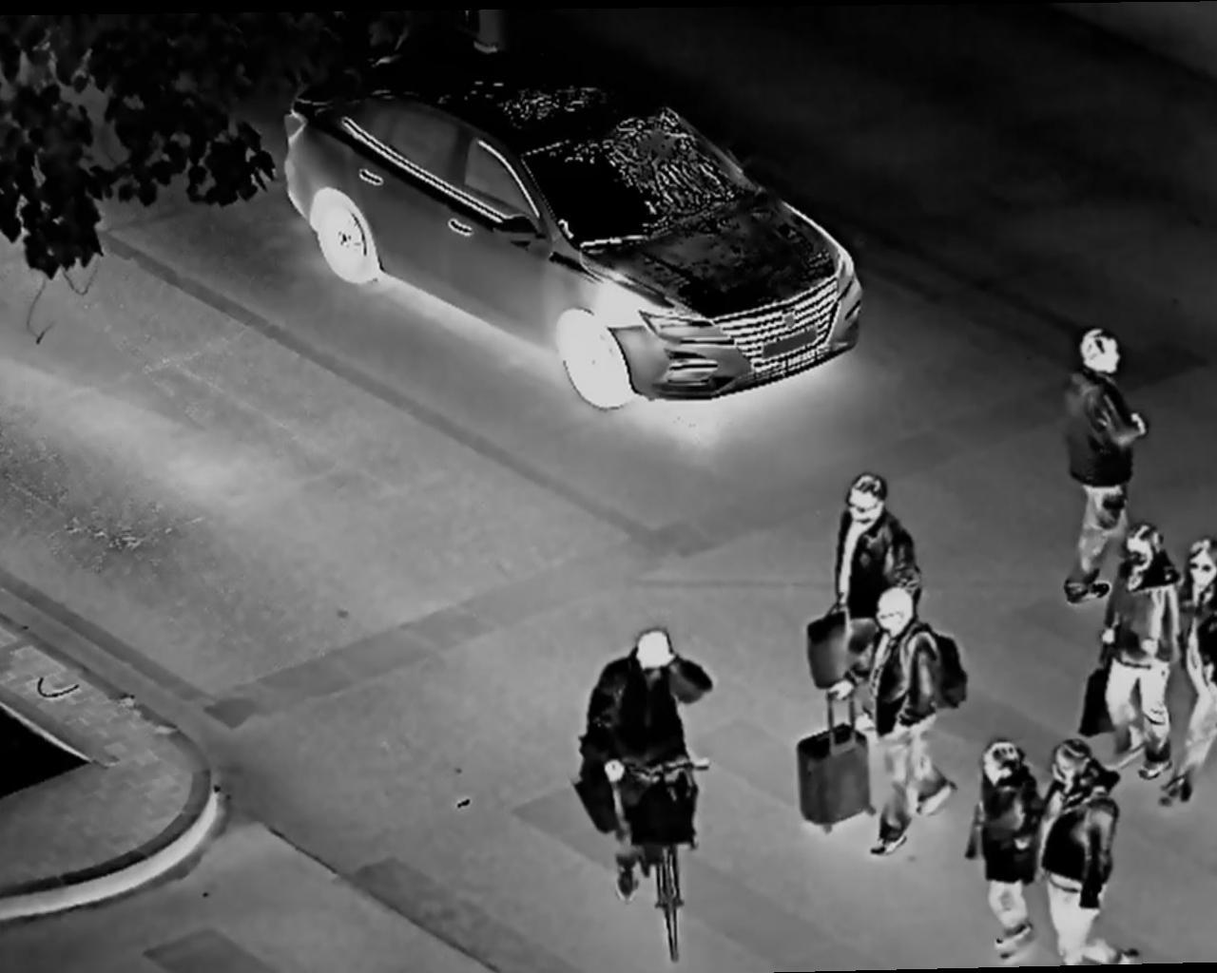person: (561, 631, 724, 925), (836, 592, 953, 856), (1043, 307, 1143, 590), (1039, 742, 1140, 972), (1090, 528, 1183, 773), (958, 734, 1033, 961), (819, 460, 908, 613), (1187, 541, 1217, 805)
